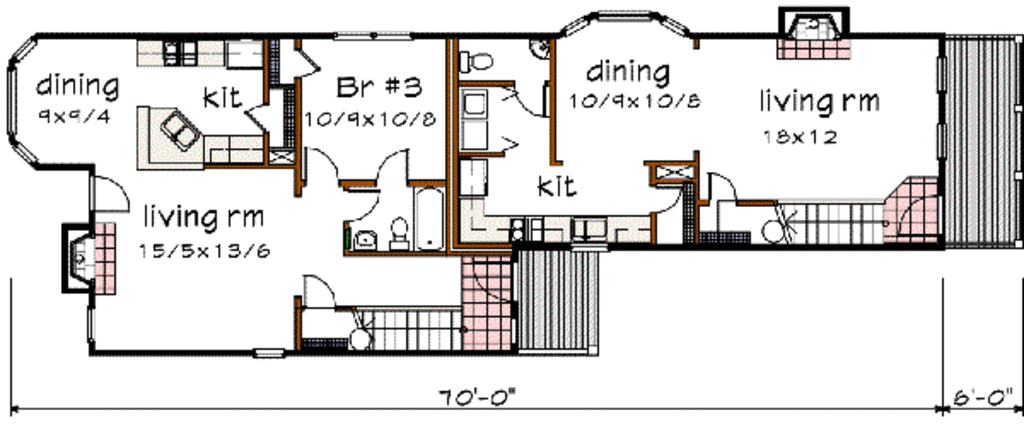door: (299, 145, 354, 187), (89, 173, 140, 216), (296, 268, 339, 308), (378, 142, 418, 184), (283, 41, 325, 80), (349, 182, 384, 227), (514, 79, 550, 118), (705, 169, 743, 204), (237, 100, 271, 136)
large_sink: (454, 41, 497, 74), (386, 216, 413, 252)
small_sink: (343, 224, 388, 253)
stairs: (753, 197, 889, 249), (345, 300, 464, 354)
tub: (412, 182, 451, 253)
twin_sink: (158, 103, 205, 156), (558, 208, 615, 245)
window: (8, 34, 39, 167), (559, 11, 692, 38), (331, 29, 412, 43), (81, 303, 102, 340), (249, 342, 289, 361)
